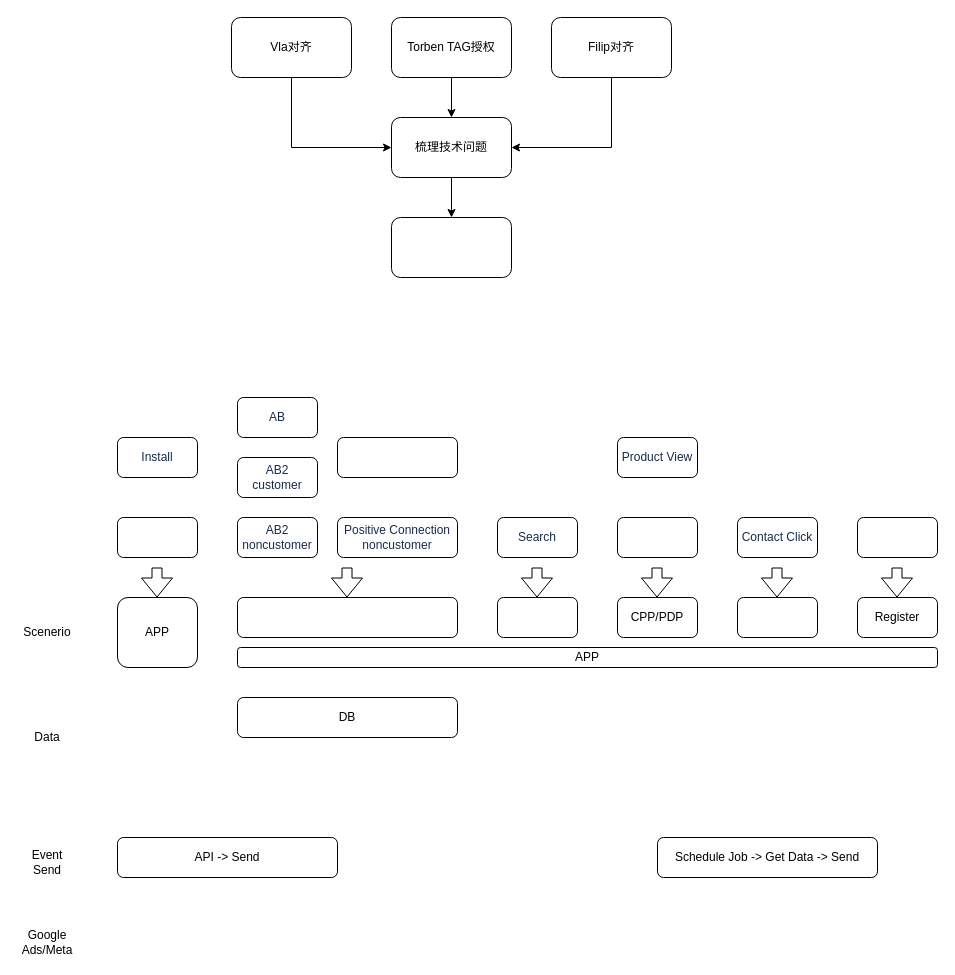
Image size: 955x975. Some labels were removed from this diagram. The shapes that lost their labels are listed below. From the top down, each one's centre as x and y in pixels, then its label:
At [451,247]: "出技术方案".
At [397,457]: "Positive Connection customer".
At [157,537]: "App Open".
At [657,537]: "Supplier View".
At [897,537]: "Complete Registration".
At [347,617]: "Request(DR, RFQ)".
At [537,617]: "SERP".
At [777,617]: "Homepage/ CPP/PDP/ SERP".
